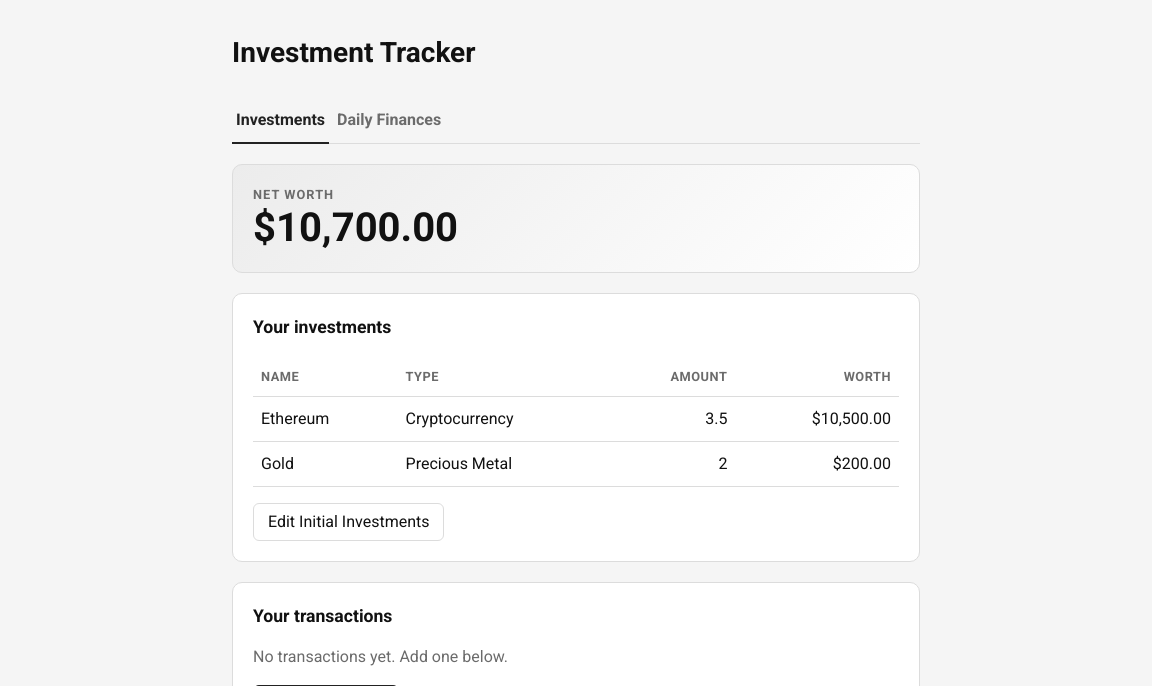
Test: the initial investments window › opens from the button and lists the initial investments sorted by name
The image size is (1152, 686).
Click the button "Edit Initial Investments" at (349, 522), box [253, 503, 444, 541]
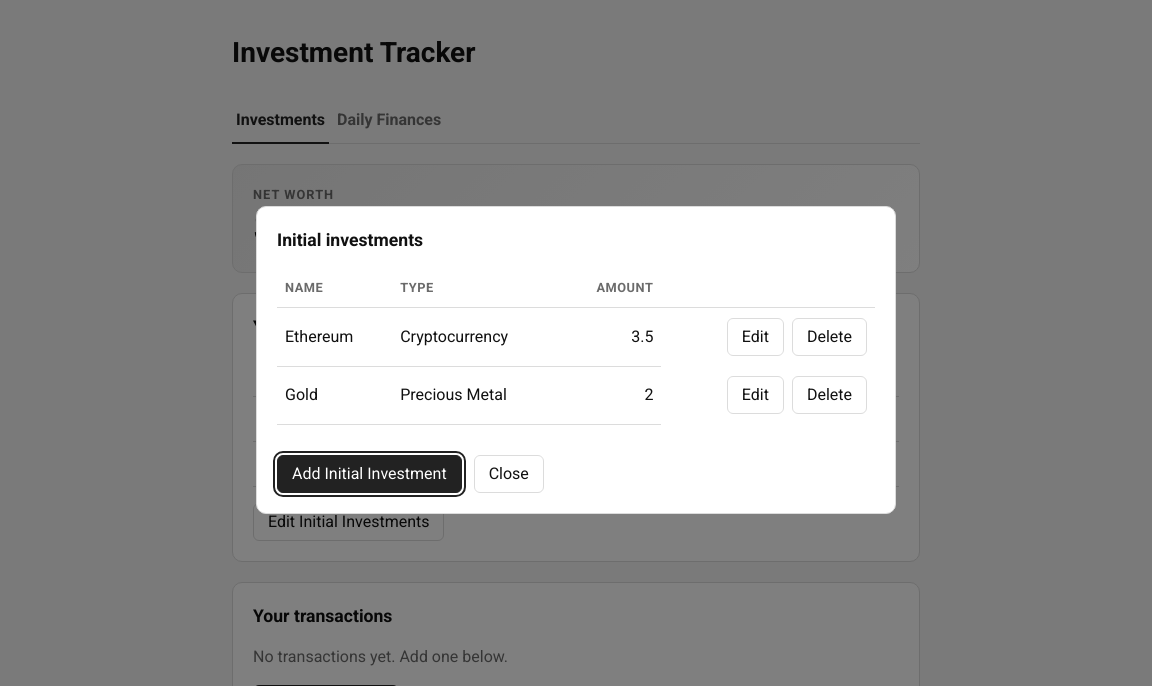
Expected: the text "Ethereum" is shown, [277, 308, 392, 366]
Expected: the text "Cryptocurrency" is shown, [392, 308, 562, 366]
Expected: the text "3.5" is shown, [562, 308, 661, 366]
